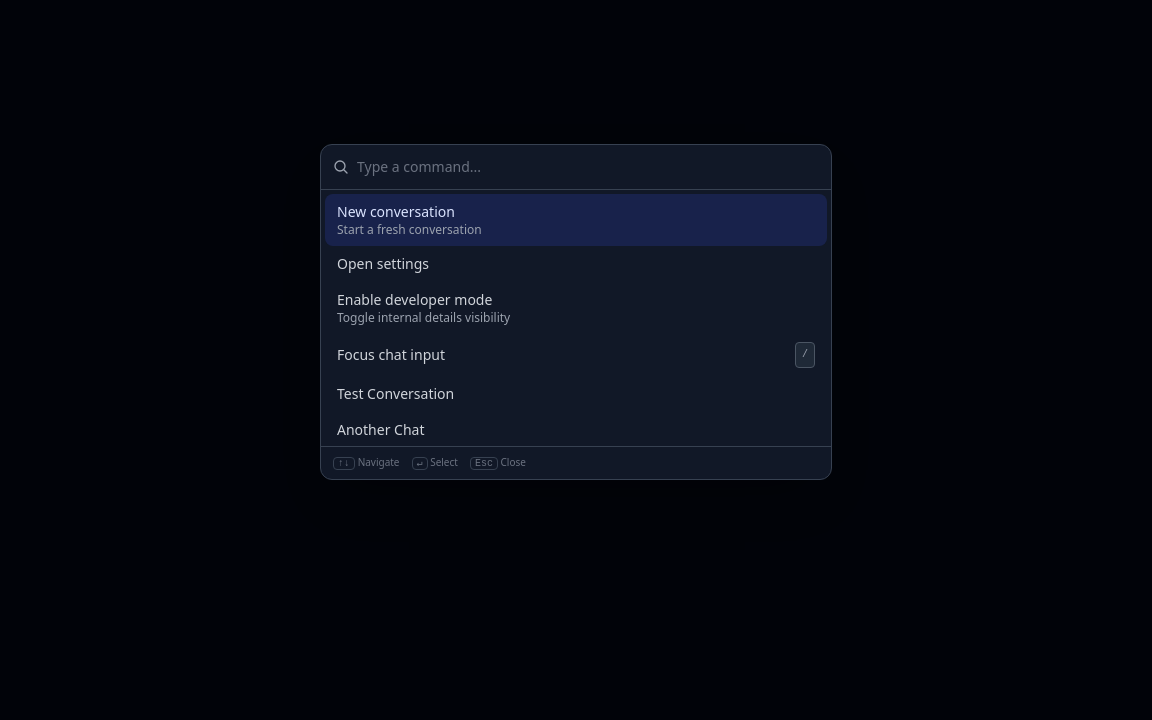
it: CommandPalette › search filtering › should filter conversations by title
In the dropdown with placeholder "Type a command...": {"x": 588, "y": 167} [357,157,819,177], type "Another"
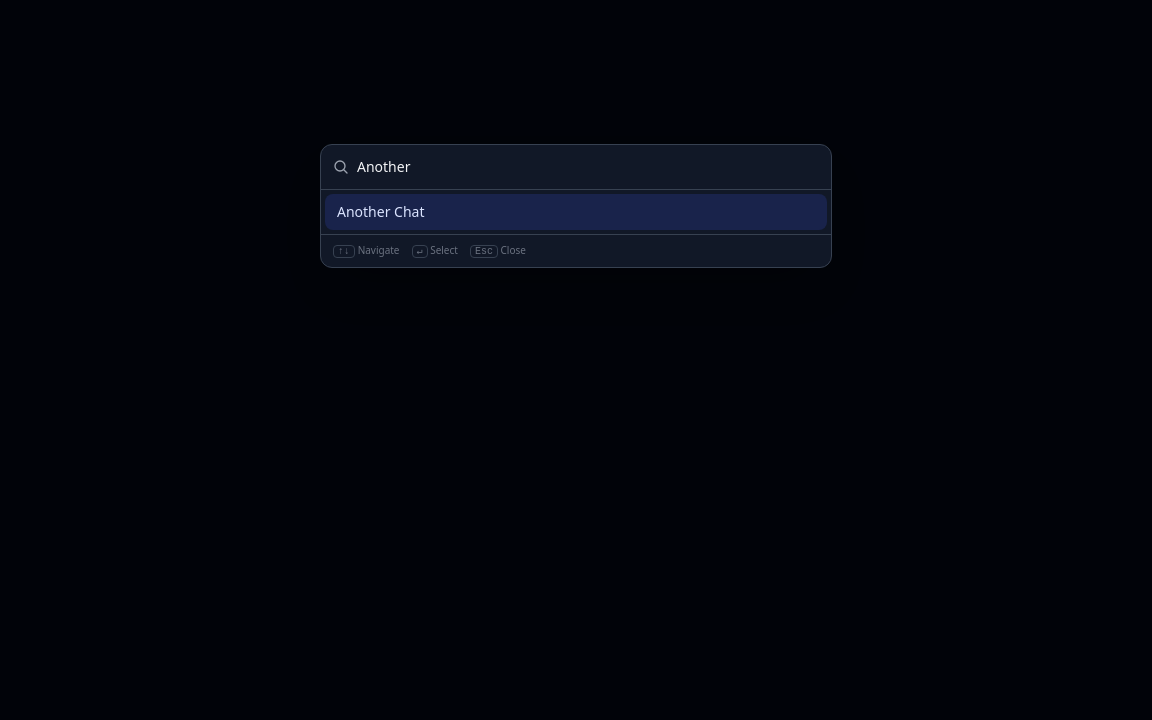
Expected: the text "Another Chat" is shown, [337,202,424,221]
Expected: the option "Test Conversation" is gone
